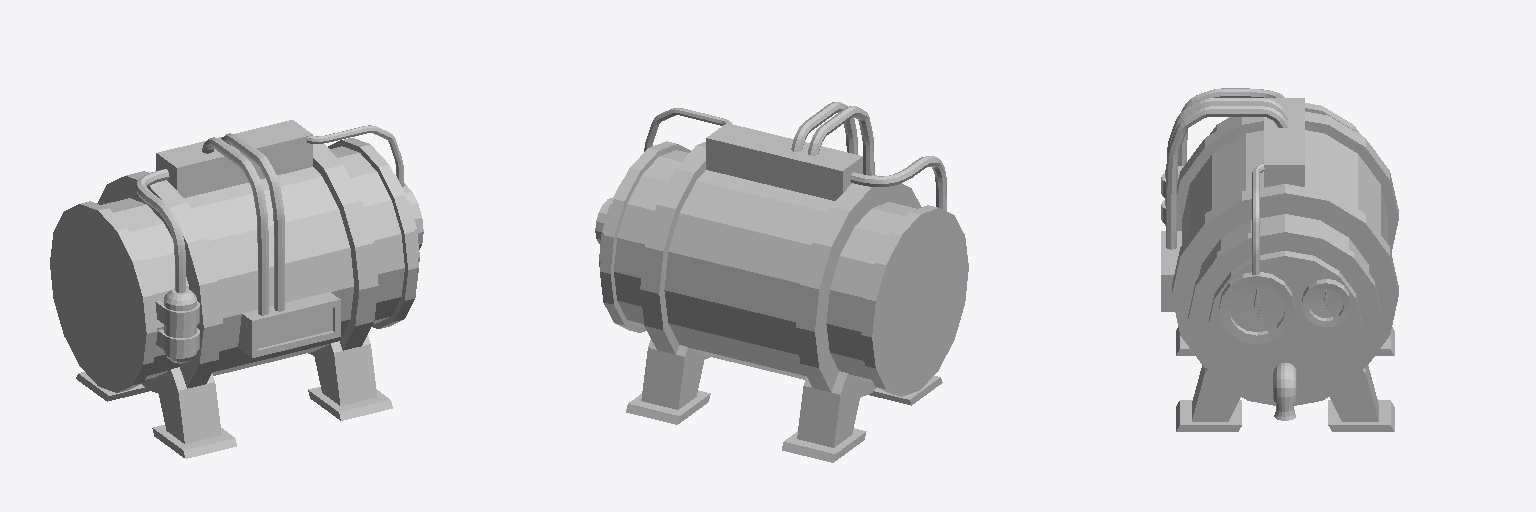
Rendered from Boiler.obj.
3 views of the same model, side by side, from view 1: azimuth 30°, elevation 25°; view 2: azimuth 150°, elevation 25°; view 3: azimuth 270°, elevation 25° (orthographic).
Visible parts, largest first — view 1: Boiler_Cylinder.001; view 2: Boiler_Cylinder.001; view 3: Boiler_Cylinder.001.
Part boxes in pixels (left/top/right/bottom): Boiler_Cylinder.001: left=50, top=120, right=423, bottom=458; Boiler_Cylinder.001: left=595, top=102, right=968, bottom=462; Boiler_Cylinder.001: left=1161, top=88, right=1398, bottom=431.
Bounding box in the file's own units: 2.79 × 2.32 × 1.85.